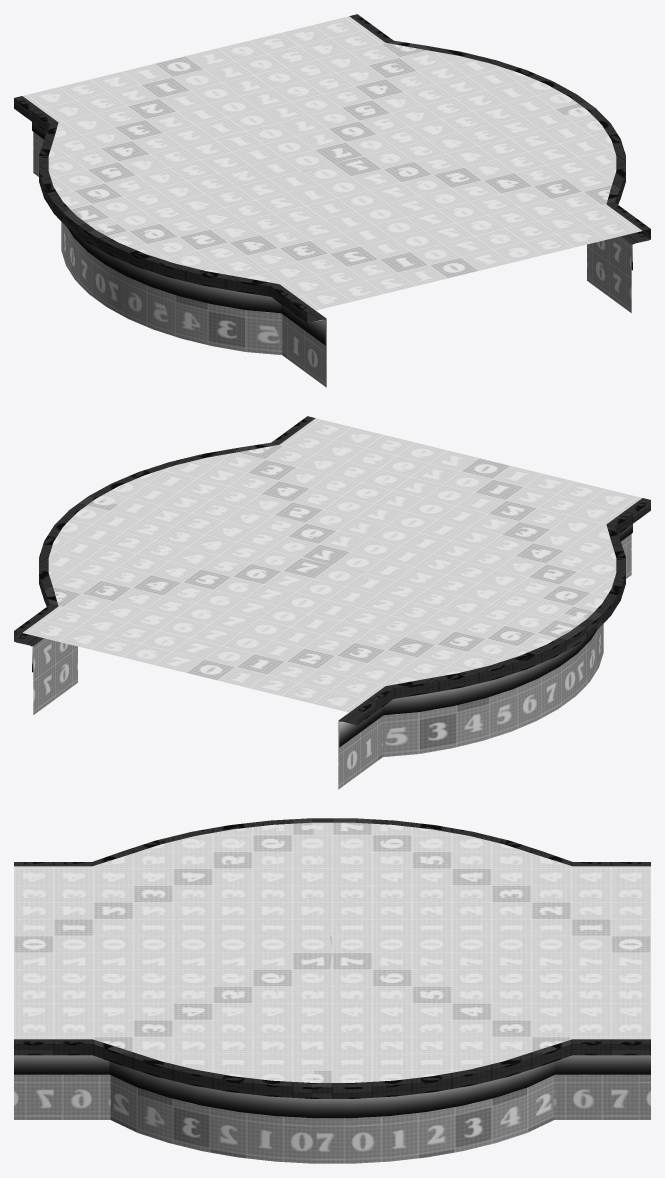
Rendered from Podium02_6.FBX.
The picture shows the model from 3 angles, top to bottom: view 1: azimuth 30°, elevation 25°; view 2: azimuth 150°, elevation 25°; view 3: azimuth 270°, elevation 25°; orthographic projection. The views are drawn at different scales.
Visible parts, largest first — view 1: Podium, Backlight; view 2: Podium, Backlight; view 3: Podium, Backlight.
Part boxes in pixels (x1=…): Podium: x1=14, y1=14, x2=650, y2=387; Backlight: x1=32, y1=122, x2=648, y2=345; Podium: x1=14, y1=416, x2=650, y2=789; Backlight: x1=16, y1=524, x2=632, y2=747; Podium: x1=14, y1=818, x2=650, y2=1163; Backlight: x1=14, y1=1055, x2=650, y2=1118.
Bounding box in the file's own units: 500 × 75 × 500.
